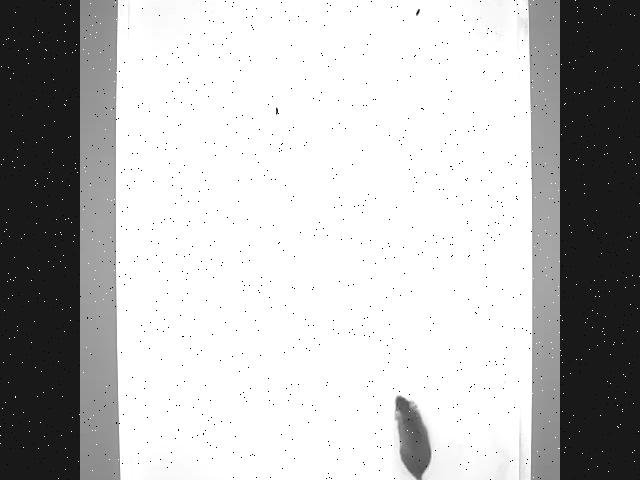Tikus: (390, 387, 452, 480)
